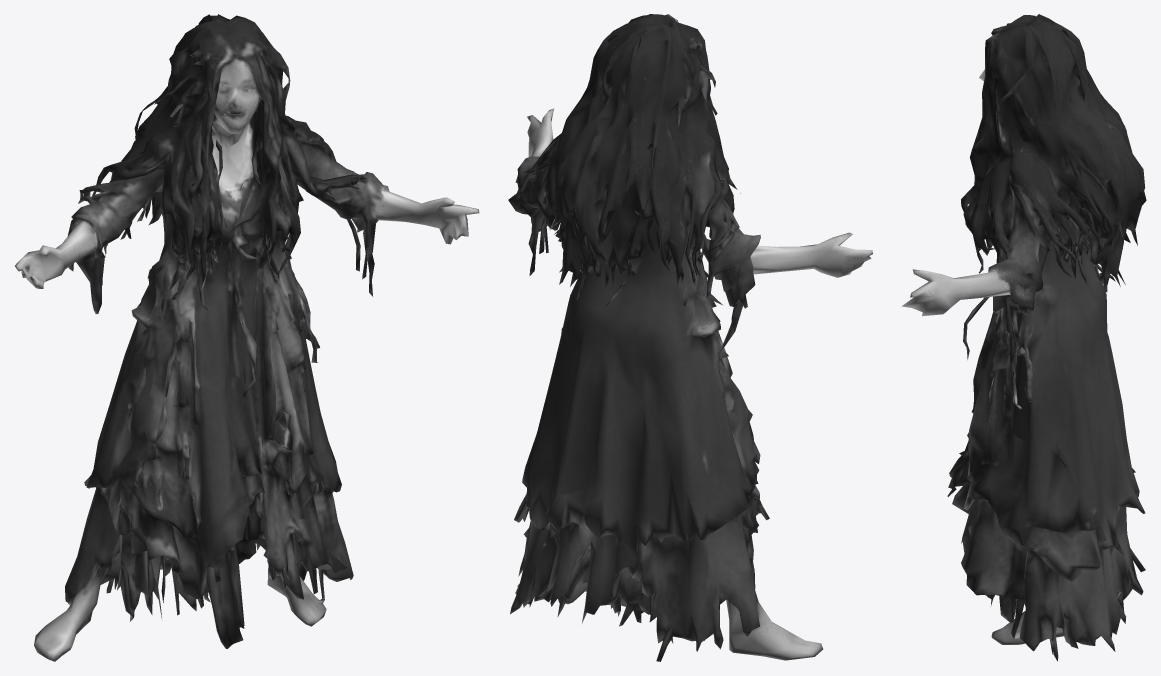
Rendered from henrietta.glb.
The picture shows the model from 3 angles, left to right: view 1: azimuth 30°, elevation 25°; view 2: azimuth 150°, elevation 25°; view 3: azimuth 270°, elevation 25°; orthographic projection. The views are drawn at different scales.
Parts seen in each view (by area): view 1: henrietta; view 2: henrietta; view 3: henrietta.
Part boxes in pixels (<box>): henrietta: <box>15,14,479,661</box>; henrietta: <box>508,14,872,661</box>; henrietta: <box>901,14,1146,661</box>.
Bounding box in the file's own units: 1.4 × 2 × 0.7569.
Materials: 1 (1 with a texture image).
